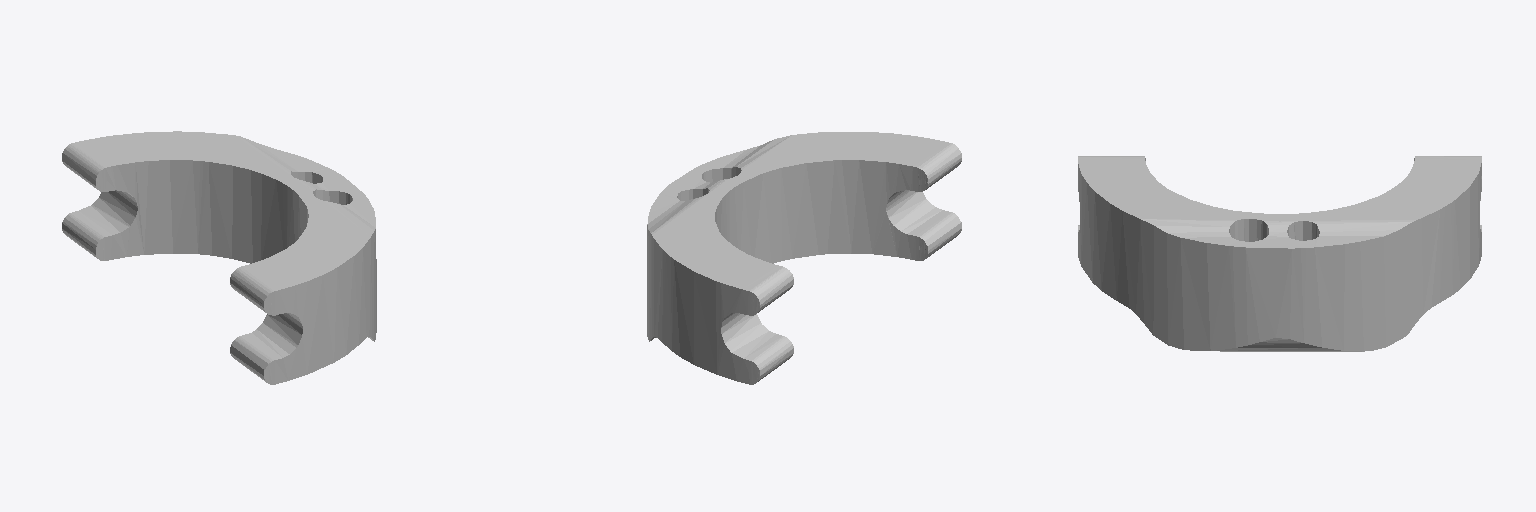
The model's file is seg26.OBJ.
The picture shows the model from 3 angles: view 1: azimuth 30°, elevation 25°; view 2: azimuth 150°, elevation 25°; view 3: azimuth 270°, elevation 25°; orthographic projection.
Visible parts, largest first — view 1: /ambf/env/seg26_seg26; view 2: /ambf/env/seg26_seg26; view 3: /ambf/env/seg26_seg26.
Boxes of the visible parts, x1,y1,x2,y2 form: /ambf/env/seg26_seg26: [62, 131, 376, 384]; /ambf/env/seg26_seg26: [647, 132, 961, 384]; /ambf/env/seg26_seg26: [1078, 156, 1481, 351].
Bounding box in the file's own units: 0.0032 × 0.0019 × 0.006.